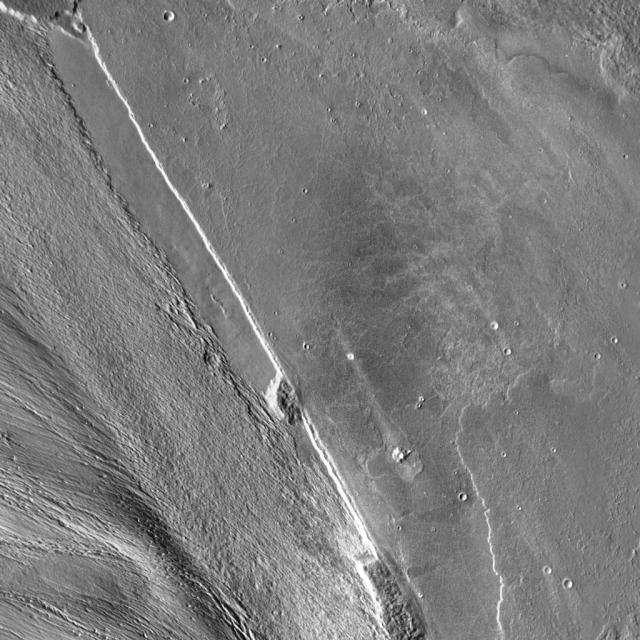crater: (170, 15, 180, 25), (572, 582, 580, 592), (550, 570, 558, 578), (458, 490, 466, 497), (504, 344, 511, 351), (492, 319, 498, 325)
